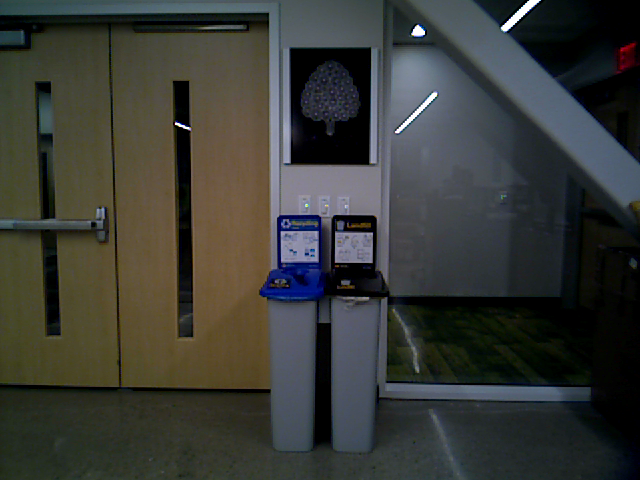painting1: (279, 47, 377, 168)
